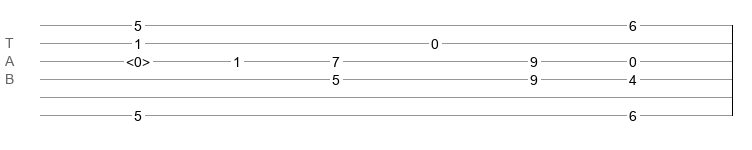0: (431, 36, 439, 46), (629, 54, 637, 64)
1: (134, 36, 142, 46), (233, 54, 241, 64)
4: (629, 72, 637, 82)
5: (134, 108, 142, 118), (134, 18, 142, 28), (332, 72, 340, 82)
6: (629, 108, 637, 118), (629, 18, 637, 28)
7: (332, 54, 340, 64)
9: (530, 72, 538, 82), (530, 54, 538, 64)
harmonic: (126, 54, 150, 64)
